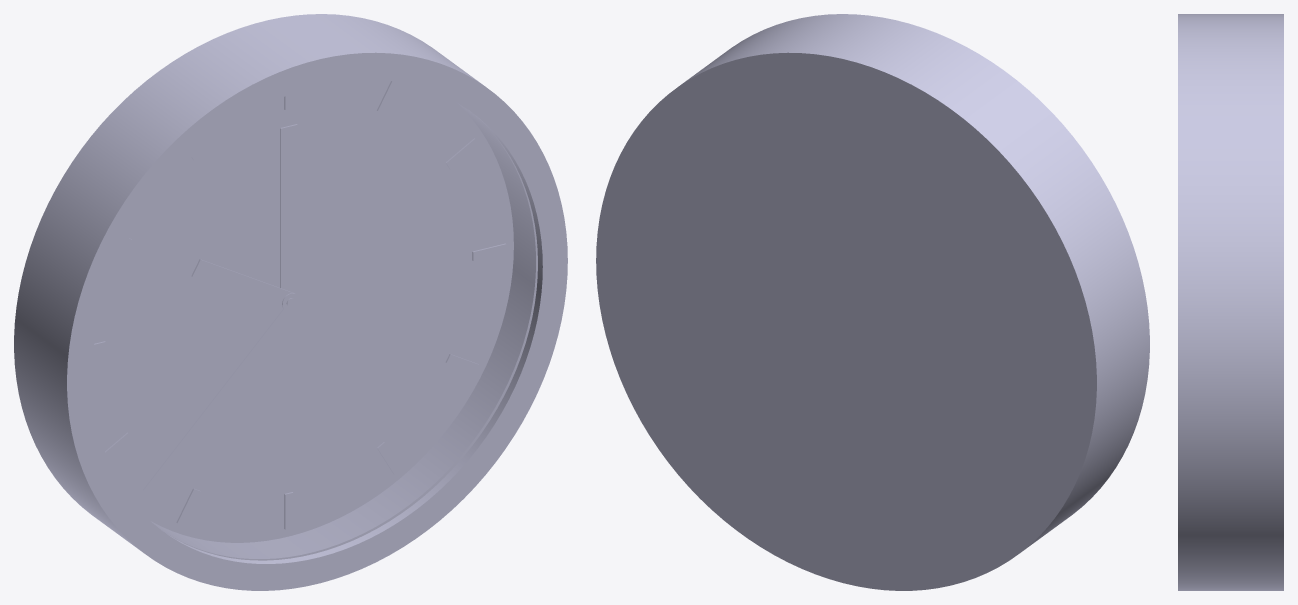
Rendered from clock.gltf.
The picture shows the model from 3 angles, left to right: view 1: azimuth 30°, elevation 25°; view 2: azimuth 150°, elevation 25°; view 3: azimuth 270°, elevation 25°; orthographic projection.
Parts seen in each view (by area): view 1: around_clone, glass_clone, symbol_clone, minute_clone, hour_clone, second_clone; view 2: around_clone; view 3: around_clone.
Boxes of the visible parts, bbox=[...] form: around_clone: bbox=[14, 14, 567, 590]; glass_clone: bbox=[92, 79, 537, 560]; symbol_clone: bbox=[93, 81, 506, 529]; minute_clone: bbox=[280, 124, 297, 295]; hour_clone: bbox=[191, 259, 294, 309]; second_clone: bbox=[143, 293, 299, 491]; around_clone: bbox=[596, 14, 1149, 590]; around_clone: bbox=[1178, 14, 1283, 590].
Size of the model in its own units: 0.2999 by 0.3 by 0.055.
